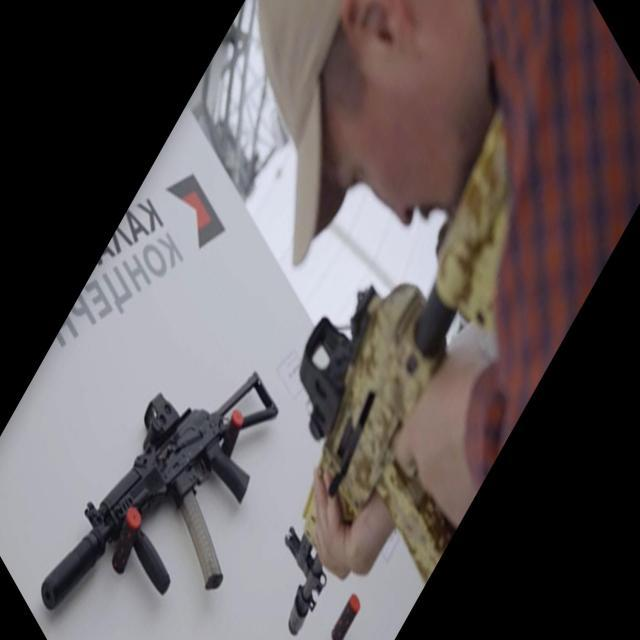weapon: (282, 108, 514, 640), (40, 370, 278, 612)
